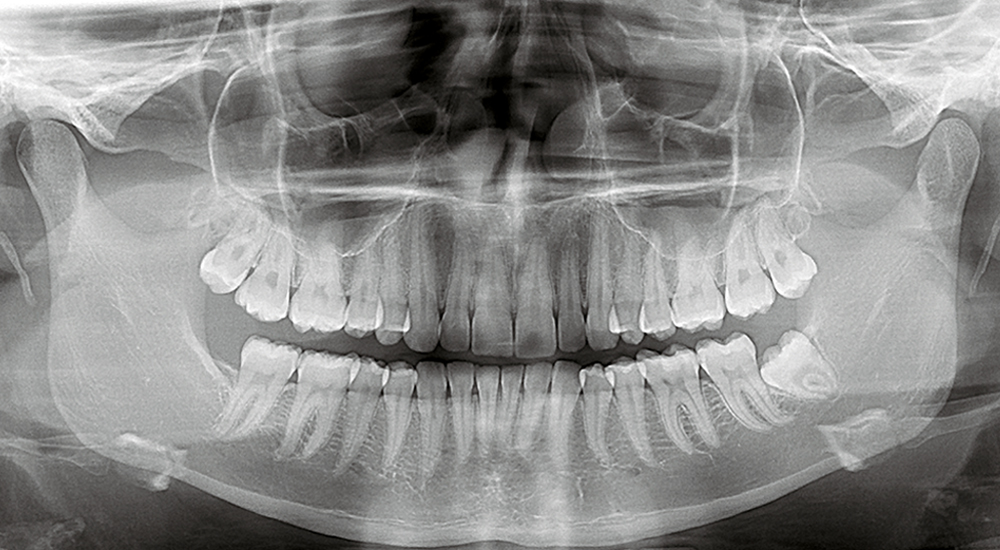canine: (402, 198, 444, 358), (582, 210, 626, 357), (542, 350, 588, 478), (408, 356, 453, 485)
incisor: (468, 218, 516, 369), (511, 217, 559, 363), (433, 220, 479, 356), (550, 211, 592, 355), (440, 354, 480, 472), (518, 356, 555, 469), (491, 358, 527, 468), (469, 358, 502, 466)
molar: (212, 322, 304, 468), (275, 339, 364, 488), (632, 334, 727, 460), (191, 193, 275, 303), (714, 200, 783, 324), (752, 194, 825, 308), (750, 320, 842, 410), (666, 214, 732, 336), (284, 216, 349, 336), (232, 215, 296, 329)
premolar: (331, 343, 392, 494), (600, 350, 664, 470), (572, 347, 622, 472), (369, 220, 416, 349), (340, 225, 388, 344), (606, 214, 648, 349), (634, 222, 680, 344), (380, 357, 422, 482)
www: (689, 325, 792, 441)
